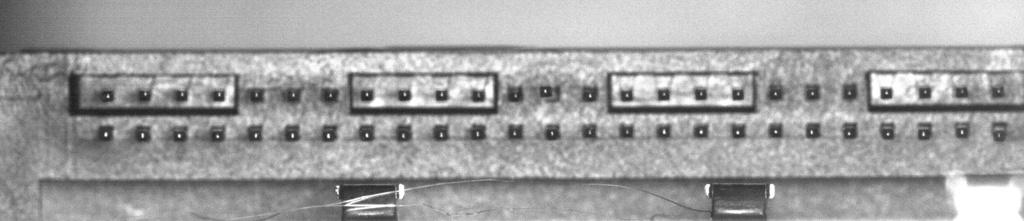pin_defect: (536, 83, 562, 104)
pin_ok: (992, 121, 1009, 141), (246, 124, 263, 141), (917, 122, 933, 139), (322, 86, 339, 102), (954, 121, 970, 138), (358, 124, 374, 141), (396, 124, 412, 141), (842, 122, 858, 139), (507, 85, 523, 101), (470, 124, 486, 140), (284, 125, 300, 141), (321, 125, 337, 141), (991, 82, 1007, 98), (97, 125, 113, 141), (581, 86, 598, 101), (284, 87, 301, 102), (842, 83, 857, 100), (544, 125, 560, 140), (805, 123, 821, 138), (768, 84, 783, 100), (805, 84, 820, 100), (880, 123, 895, 139), (433, 124, 448, 140), (135, 125, 150, 141), (248, 88, 265, 102), (582, 123, 597, 138), (210, 126, 225, 141), (508, 124, 523, 139), (619, 123, 634, 138), (693, 124, 709, 138), (769, 122, 783, 138), (471, 88, 486, 102), (656, 124, 671, 138), (359, 88, 374, 102), (172, 127, 187, 141), (731, 124, 745, 138), (731, 86, 745, 100), (619, 87, 633, 101), (435, 88, 449, 101), (657, 87, 671, 100), (955, 85, 969, 98), (918, 85, 932, 98), (100, 89, 114, 102), (398, 88, 411, 101), (694, 87, 707, 100), (175, 89, 188, 102), (211, 89, 225, 101), (138, 89, 151, 101), (880, 87, 892, 99)
